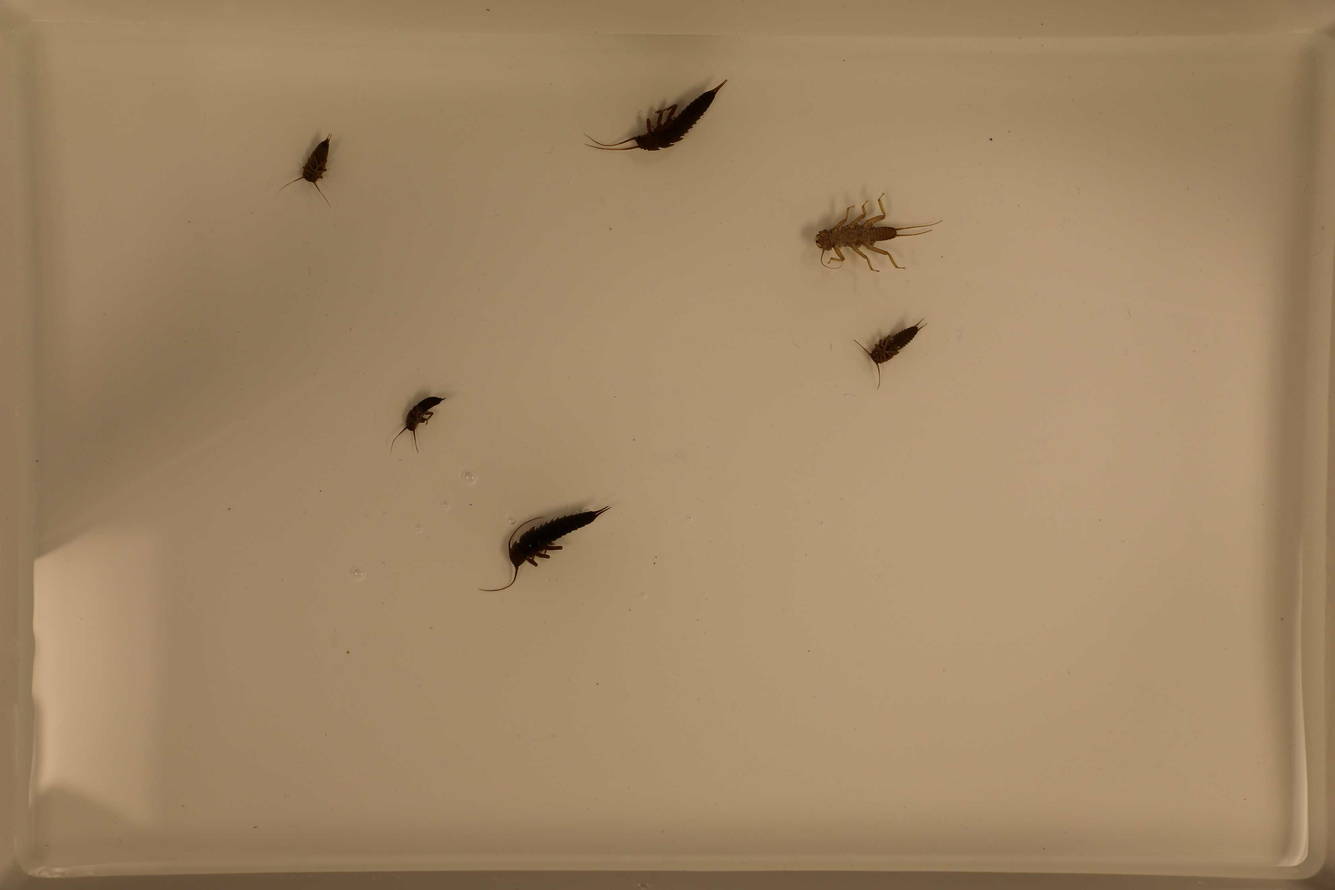Stonefly: (580, 73, 733, 163), (479, 502, 606, 596), (806, 192, 938, 279), (852, 319, 926, 391), (281, 124, 340, 211), (388, 388, 447, 466)
